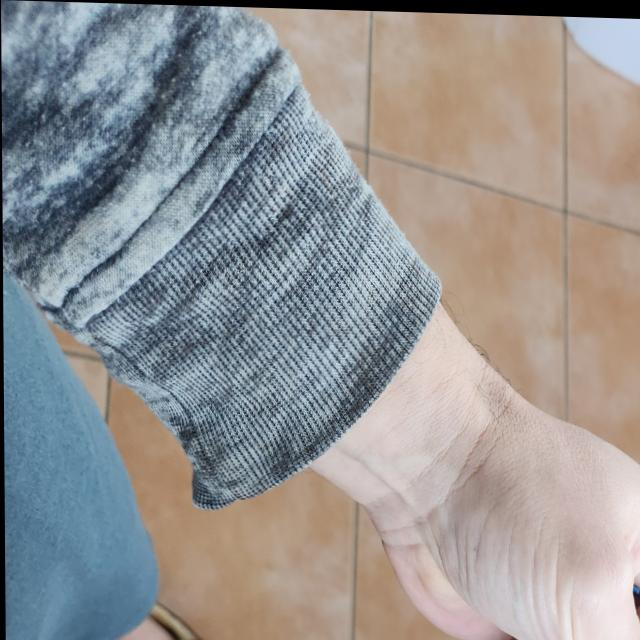noodles: (507, 594, 640, 640)
